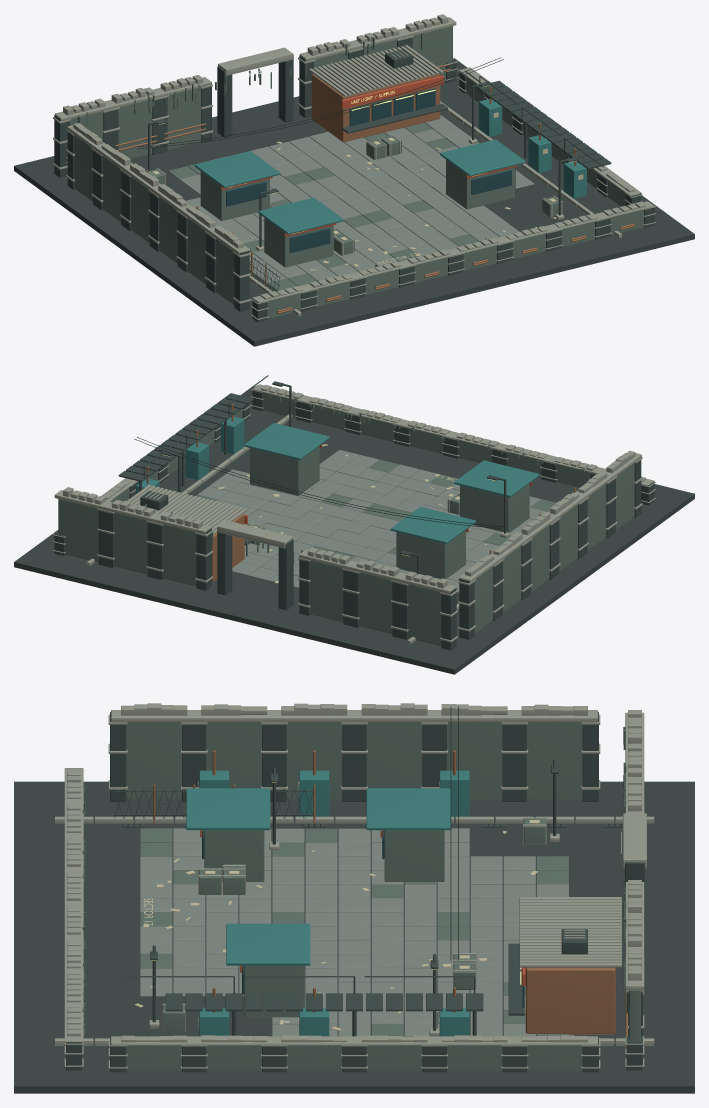
Rendered from commercial.glb.
The picture shows the model from 3 angles, top to bottom: view 1: azimuth 30°, elevation 25°; view 2: azimuth 150°, elevation 25°; view 3: azimuth 270°, elevation 25°; orthographic projection. The views are drawn at different scales.
Visible parts, largest first — view 1: District static geometry; view 2: District static geometry; view 3: District static geometry.
Boxes of the visible parts, x1,y1,x2,y2 form: District static geometry: (14,14,694,346); District static geometry: (14,375,694,674); District static geometry: (14,703,694,1093).
Bounding box in the file's own units: 36 × 5.96 × 34.
